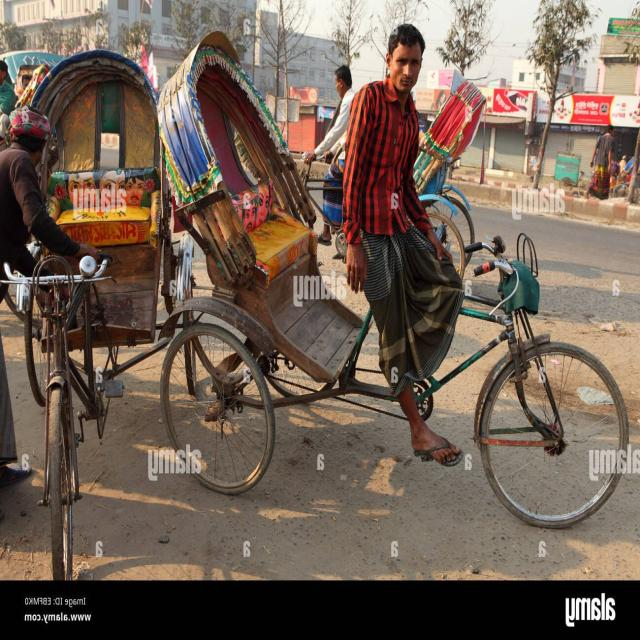Rickshaw: (129, 20, 640, 531), (1, 17, 191, 623), (242, 45, 510, 302)
